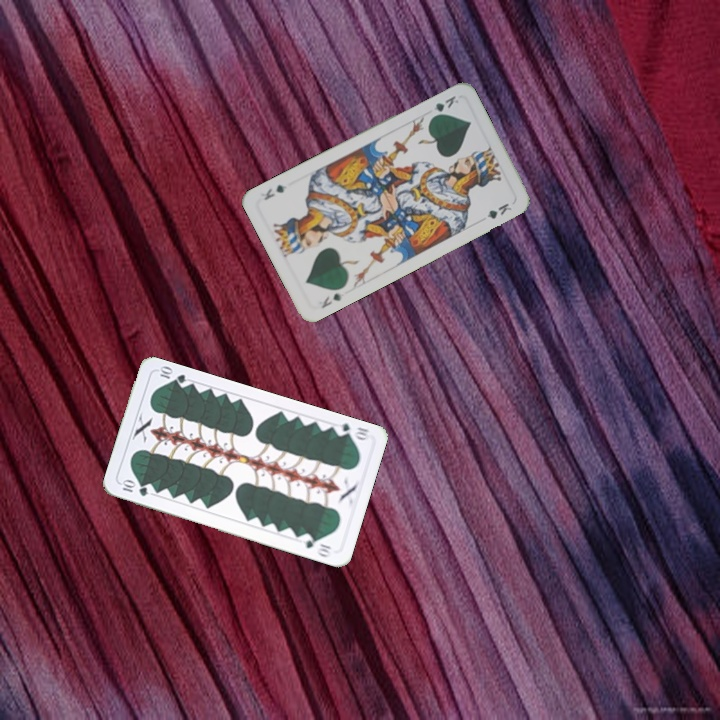G10: (331, 419, 372, 443), (118, 477, 150, 499)
GK: (426, 92, 461, 121), (317, 289, 344, 311)
